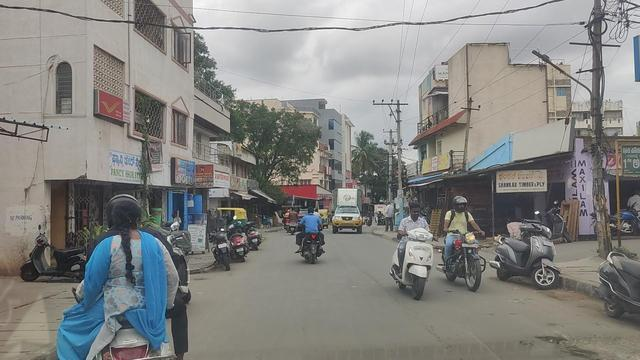LMV: (87, 188, 180, 360), (446, 195, 486, 287), (402, 203, 436, 299), (298, 193, 329, 270)
RoadDamages: (525, 314, 603, 357)
